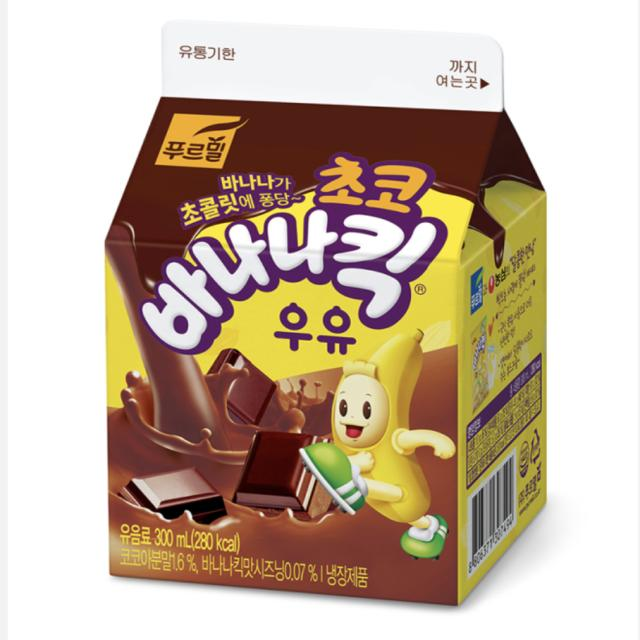biodegradable: (75, 4, 582, 623)
